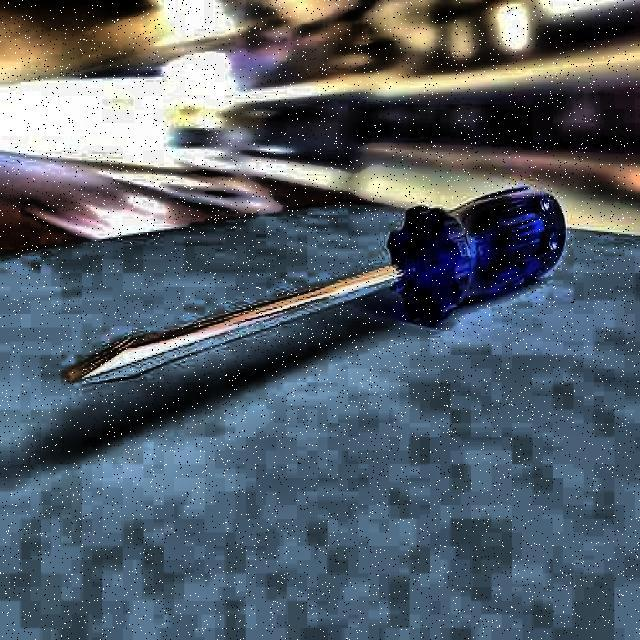screwdriver: (62, 184, 566, 388)
